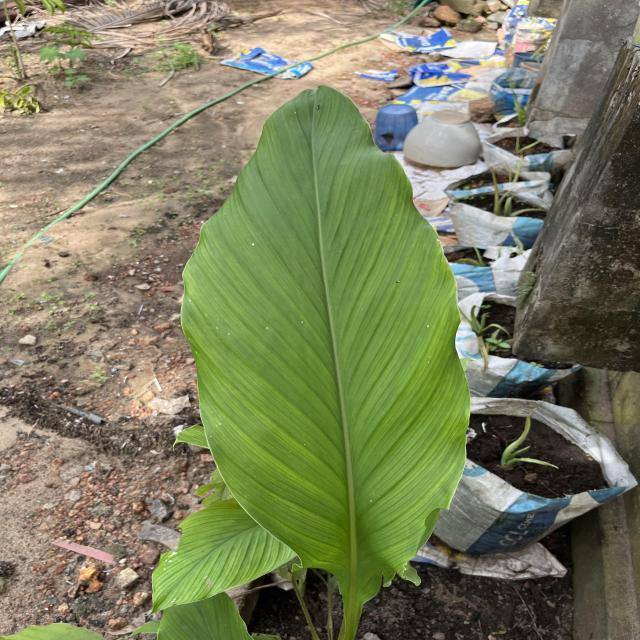Curcuma longa: (176, 80, 474, 605)
